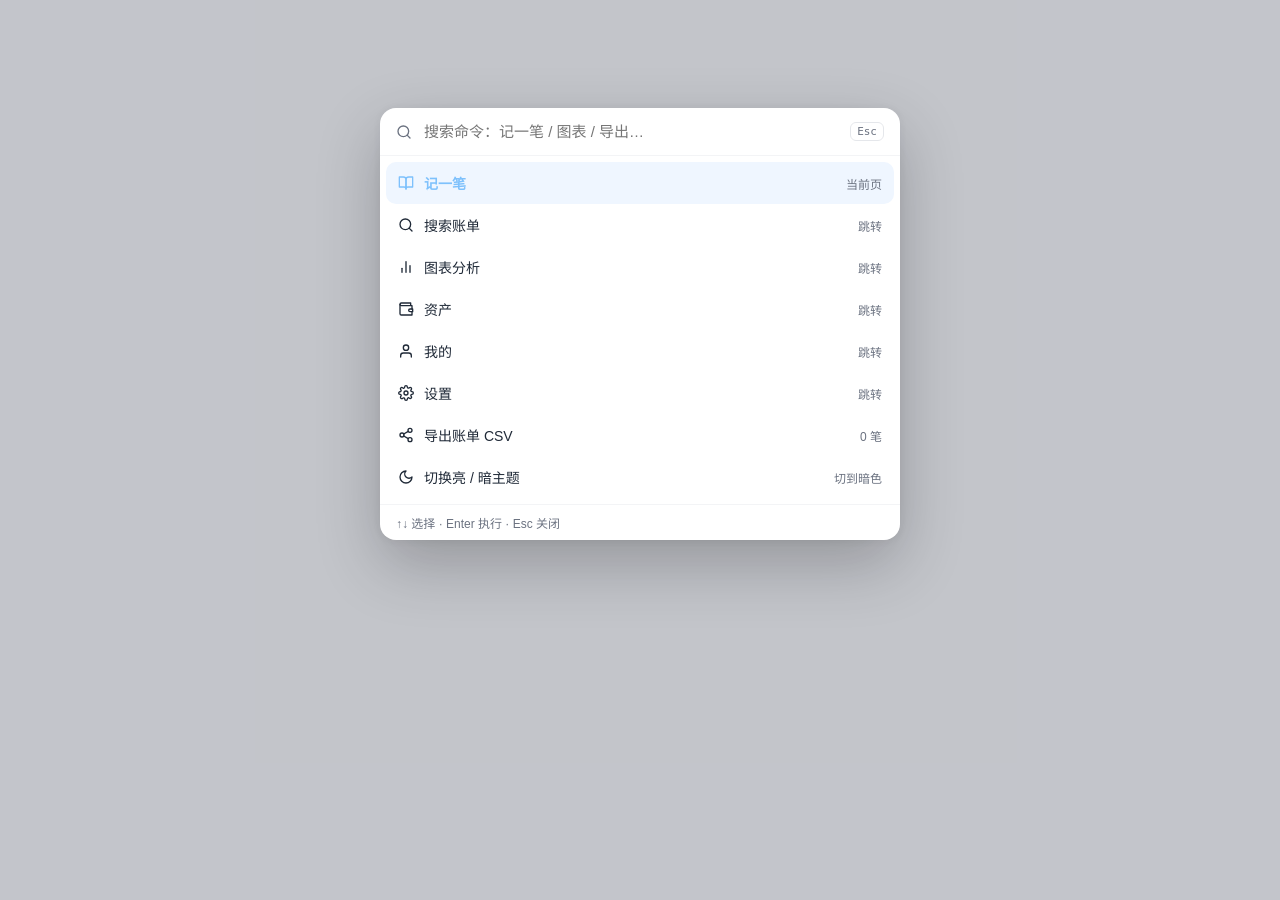
Test case: CommandPalette 命令面板 › 打开后渲染全部命令，输入查询即过滤
In the field with placeholder "搜索命令：记一笔 / 图表 / 导出…": (631, 132) [422,122,840,141], type "图表"
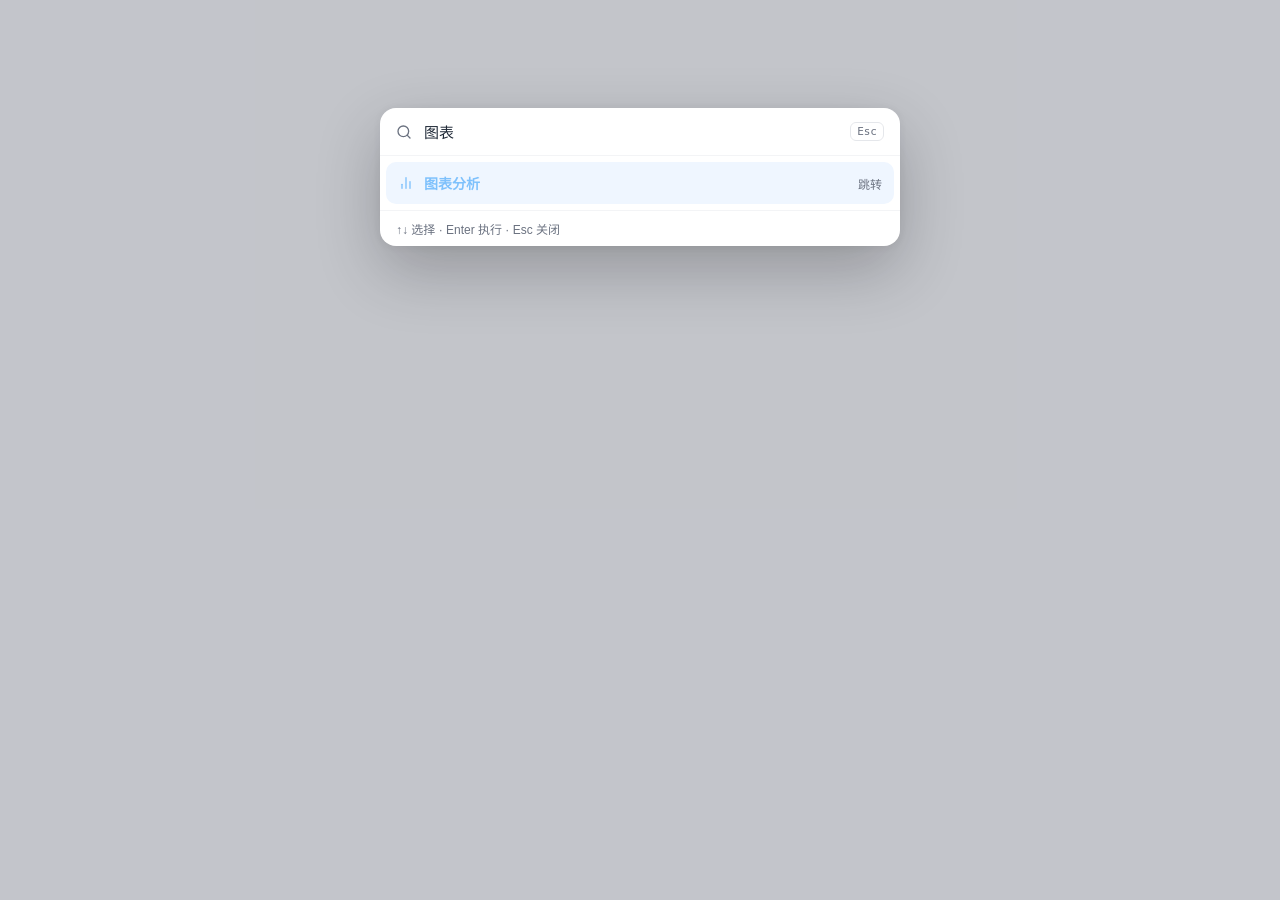
Expected: the option "图表分析 跳转" is shown, [386,162,894,204]
Expected: the number of options is 1, [386,162,894,204]
